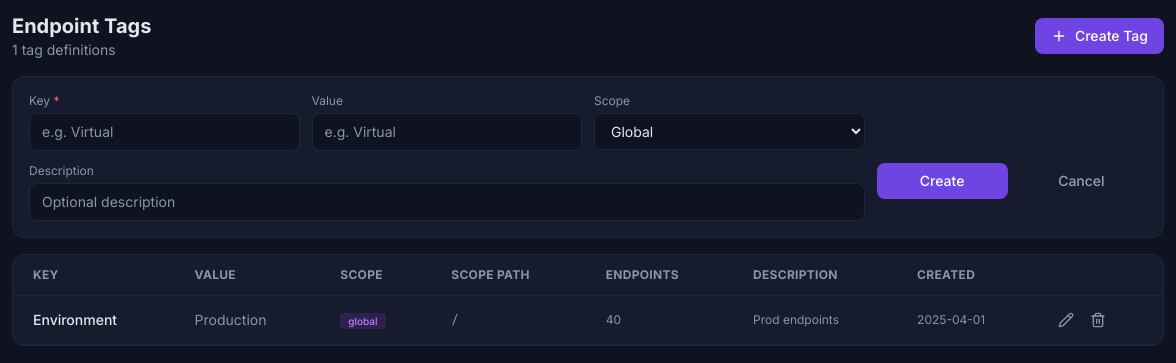
Test: TagsView › scope select @change clears newScopeId via DOM change event
Select "Site" in the dropdown with id "tag-scope" at (729, 132), box left=594, top=113, right=864, bottom=150
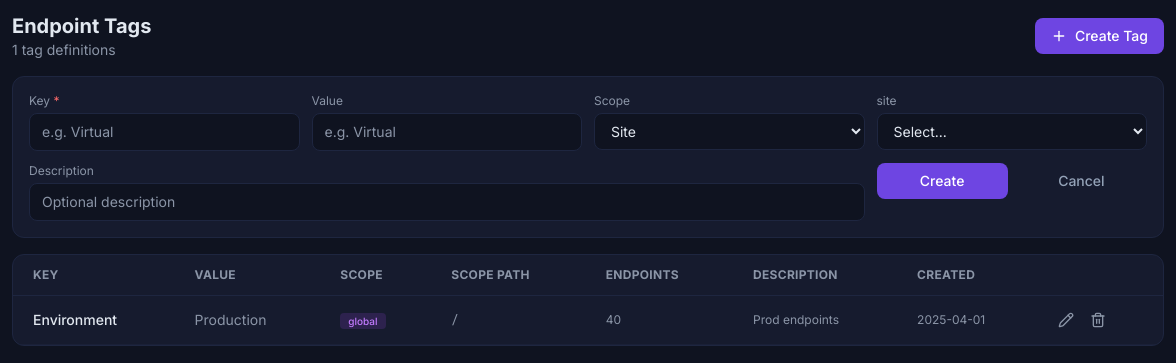
Expected: the label "site" is shown, left=876, top=93, right=896, bottom=108
